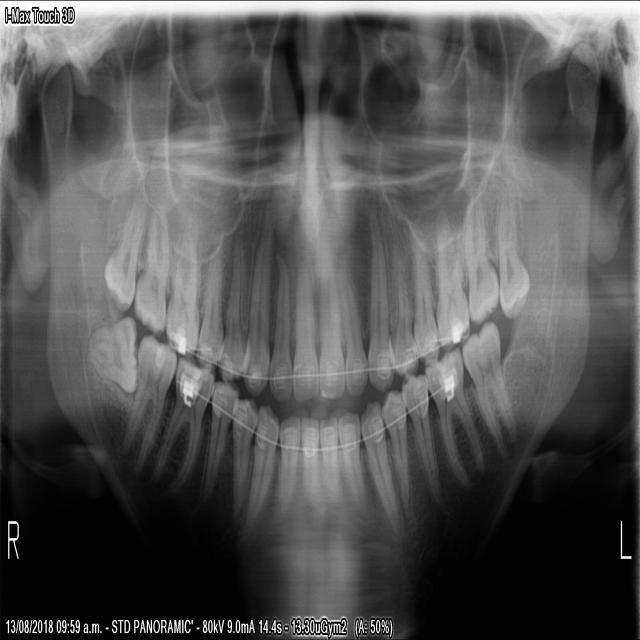LCD: (358, 398, 399, 533)
LCU: (364, 208, 393, 393)
LID: (335, 410, 366, 515), (317, 414, 341, 500)
LIU: (316, 274, 343, 396), (338, 273, 365, 391)
LMD: (423, 345, 482, 491), (458, 319, 514, 454)
LMU: (493, 177, 529, 318), (432, 208, 467, 349), (461, 192, 497, 322)
LPMD: (399, 372, 438, 502), (379, 388, 410, 523)
LPMU: (386, 231, 416, 379), (410, 227, 437, 362)
RCD: (235, 401, 277, 546)
RCU: (241, 227, 267, 390)
RID: (272, 413, 297, 523), (298, 413, 321, 519)
RIU: (267, 250, 289, 397), (291, 274, 315, 398)
RMD: (148, 353, 213, 493), (119, 332, 174, 468), (84, 313, 135, 391)
RMU: (101, 192, 145, 310), (162, 216, 197, 354), (131, 204, 167, 335)
RPMD: (198, 379, 236, 500), (230, 396, 255, 515)
RPMU: (193, 231, 221, 367), (216, 240, 242, 378)
